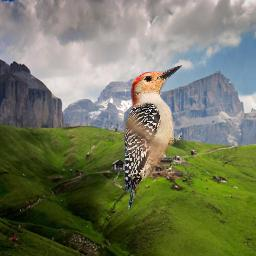Woodpecker: (124, 64, 182, 210)
